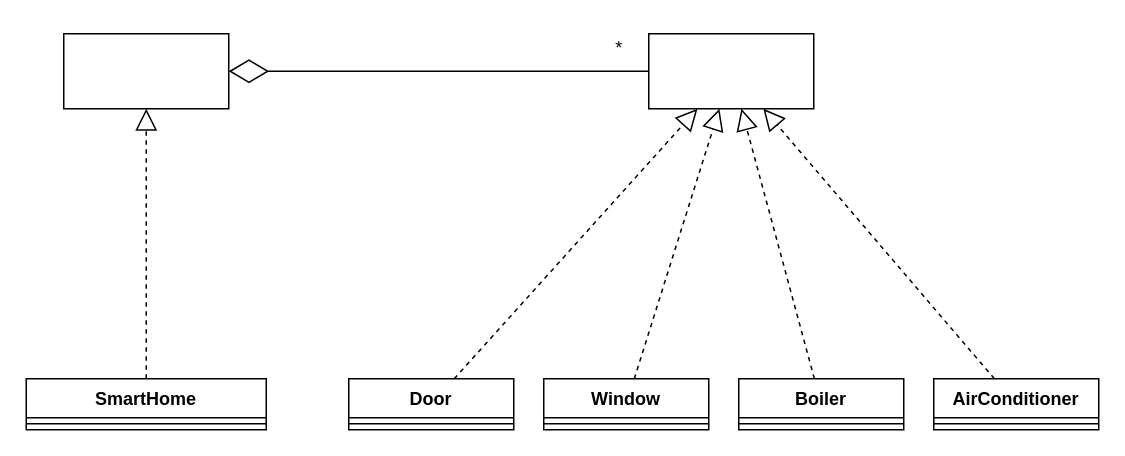
This 1125x456 diagram has some shape labels left out. The shapes that lost their labels are listed below. From the top down, each one's centre as x and y in pixels, then its label:
point 145,70: «interface» Mediator
point 730,70: «interface» Participant
